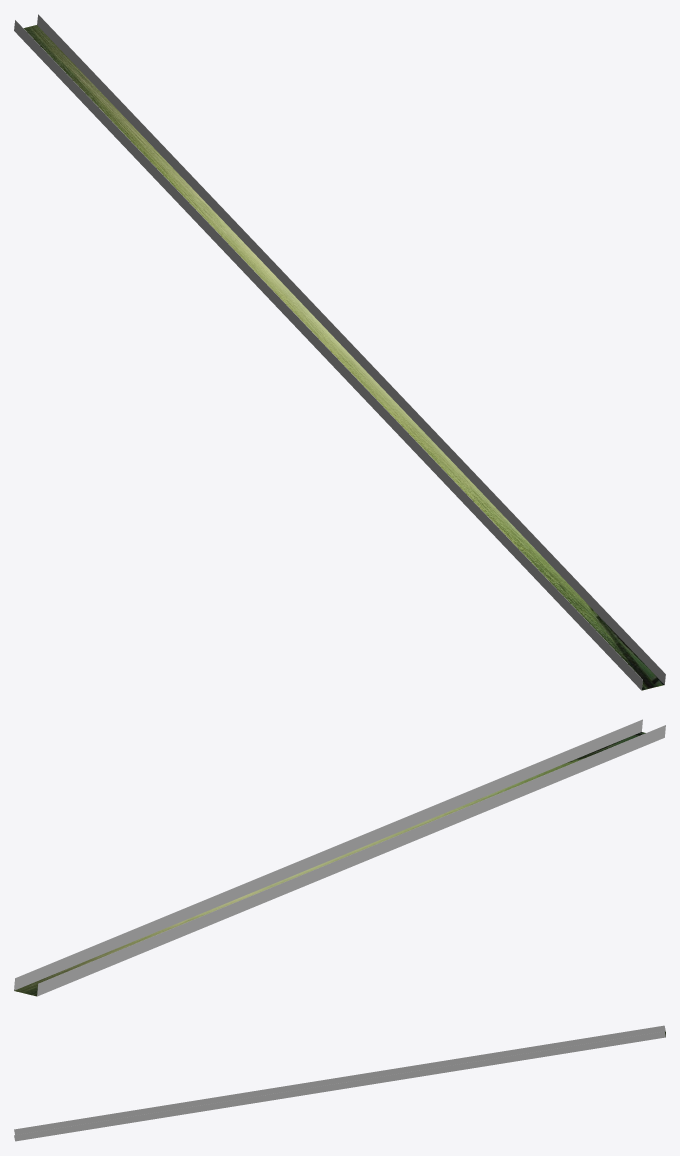
Rendered from background.obj.
3 renders of one model, top to bottom at view 1: azimuth 30°, elevation 25°; view 2: azimuth 150°, elevation 25°; view 3: azimuth 270°, elevation 25°, orthographic. The views are drawn at different scales.
Size of the model in its own units: 101 by 883 by 4737.
